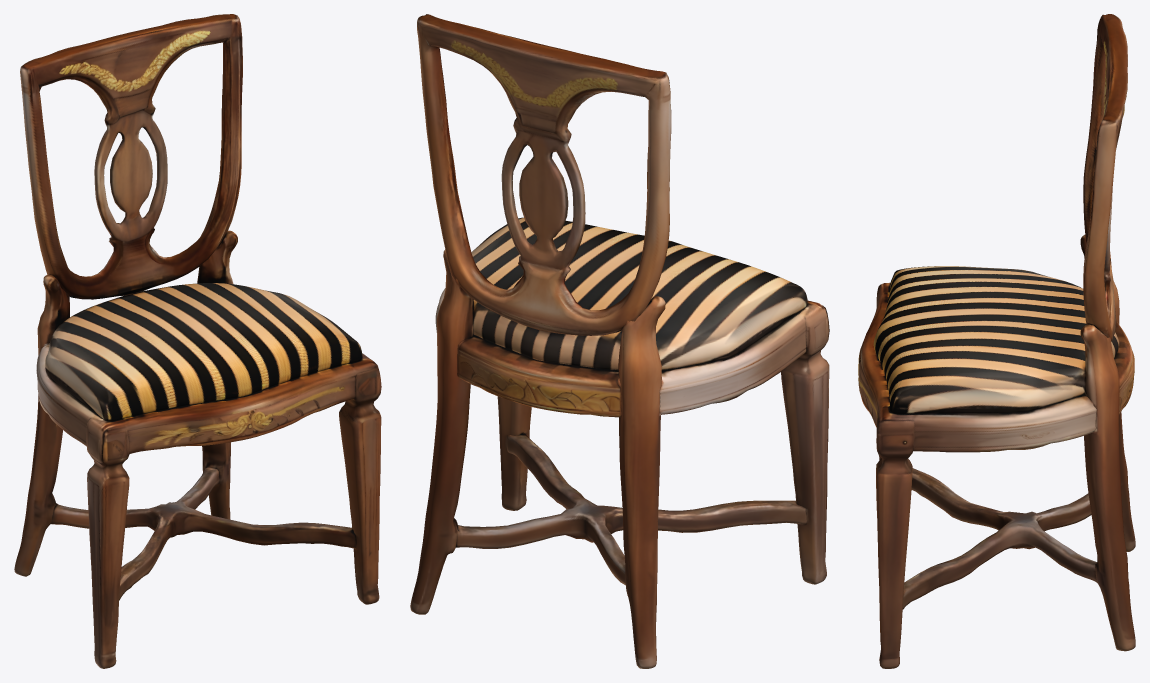
3 renders of one model, left to right at view 1: azimuth 30°, elevation 25°; view 2: azimuth 150°, elevation 25°; view 3: azimuth 270°, elevation 25°, orthographic. The views are drawn at different scales.
Parts seen in each view (by area): view 1: root.1, root.2, root.0, root.6, root.3, root.7, root.4, root.5; view 2: root.1, root.2, root.0, root.4, root.3, root.5, root.6, root.7; view 3: root.2, root.0, root.5, root.1, root.3, root.7, root.4.
Part boxes in pixels (x1=…): root.1: x1=20, y1=14, x2=242, y2=299; root.2: x1=45, y1=283, x2=362, y2=421; root.0: x1=36, y1=344, x2=375, y2=453; root.6: x1=86, y1=416, x2=129, y2=668; root.3: x1=50, y1=466, x2=356, y2=600; root.7: x1=339, y1=353, x2=381, y2=604; root.4: x1=14, y1=274, x2=69, y2=576; root.5: x1=197, y1=230, x2=237, y2=519; root.1: x1=417, y1=14, x2=671, y2=335; root.2: x1=445, y1=217, x2=807, y2=370; root.0: x1=435, y1=288, x2=821, y2=417; root.4: x1=618, y1=296, x2=665, y2=668; root.3: x1=456, y1=434, x2=806, y2=585; root.5: x1=410, y1=249, x2=473, y2=614; root.6: x1=781, y1=304, x2=829, y2=584; root.7: x1=497, y1=396, x2=531, y2=510; root.2: x1=873, y1=266, x2=1119, y2=413; root.0: x1=858, y1=283, x2=1134, y2=452; root.5: x1=1080, y1=324, x2=1135, y2=651; root.1: x1=1083, y1=14, x2=1127, y2=341; root.3: x1=902, y1=468, x2=1097, y2=609; root.7: x1=876, y1=415, x2=914, y2=668; root.4: x1=1080, y1=234, x2=1135, y2=551.
Size of the model in its own units: 0.5245 by 0.92 by 0.4323.
8 materials, 8 textured.
